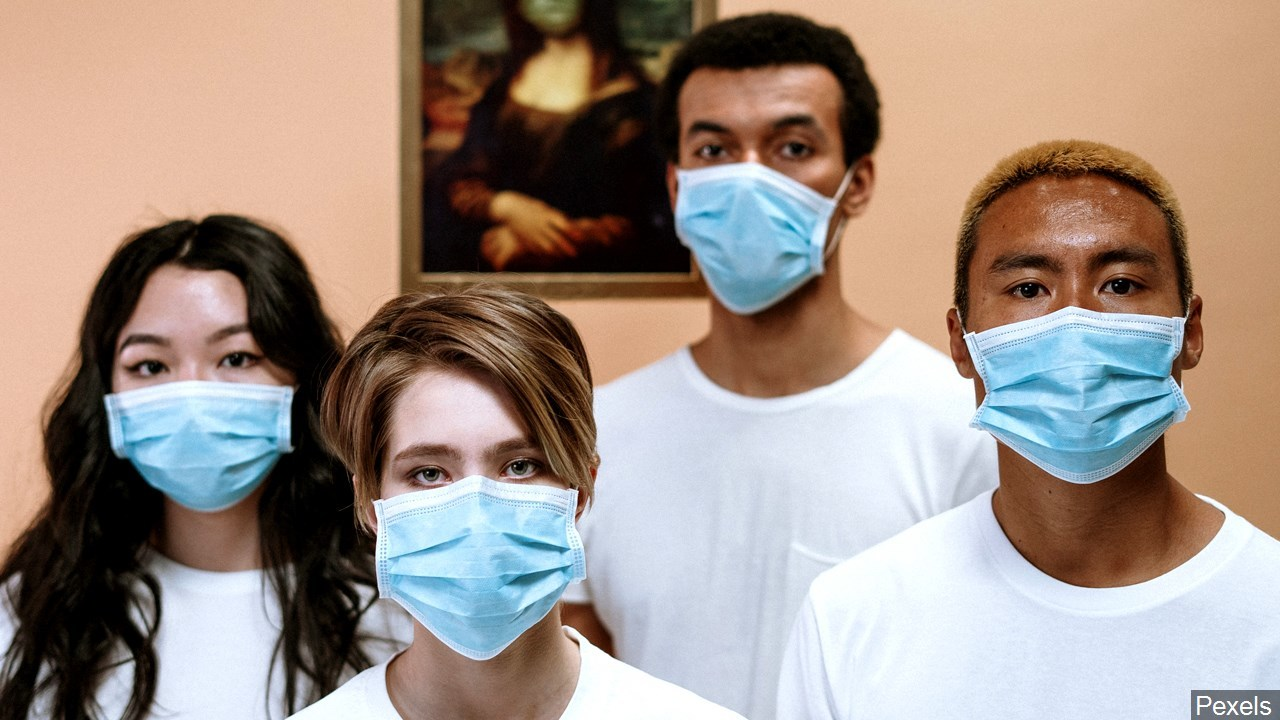with_mask: (983, 194, 1184, 450), (390, 384, 580, 621), (118, 278, 293, 487), (683, 68, 847, 287)
